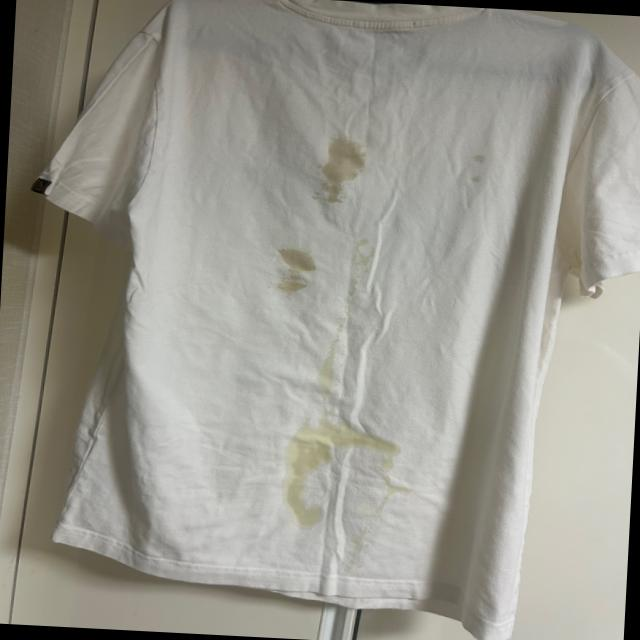stain: (280, 418, 380, 528), (316, 132, 371, 209), (308, 318, 345, 392), (270, 244, 313, 300), (377, 460, 417, 506), (458, 150, 493, 190), (354, 238, 378, 270)
